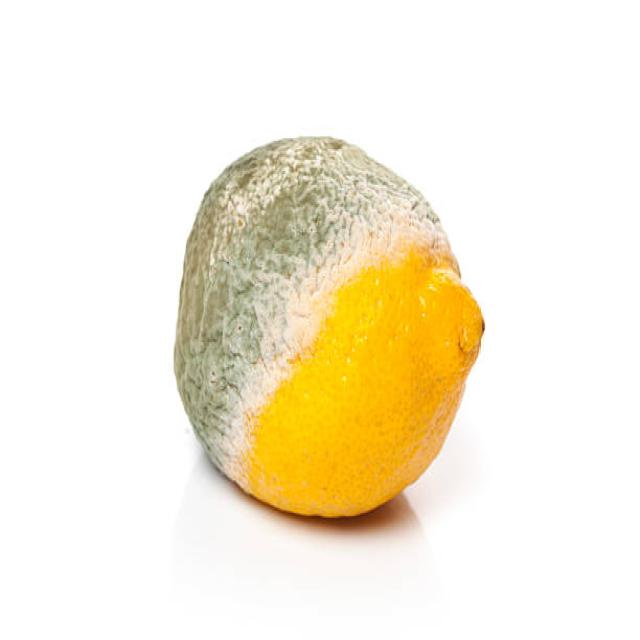Rotten: (169, 134, 486, 521)
